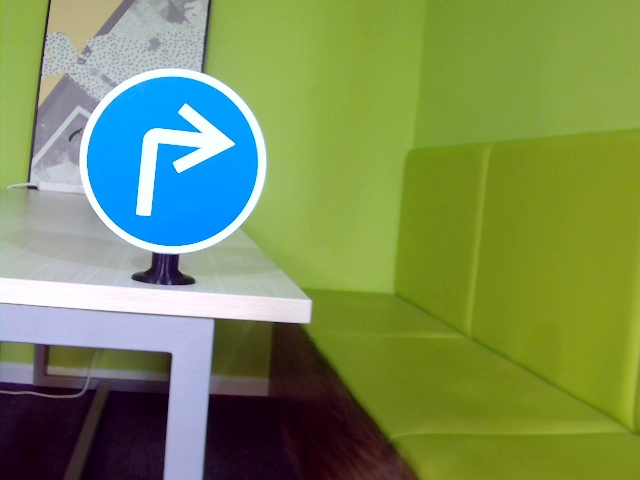turn_right: (124, 109, 231, 220)
